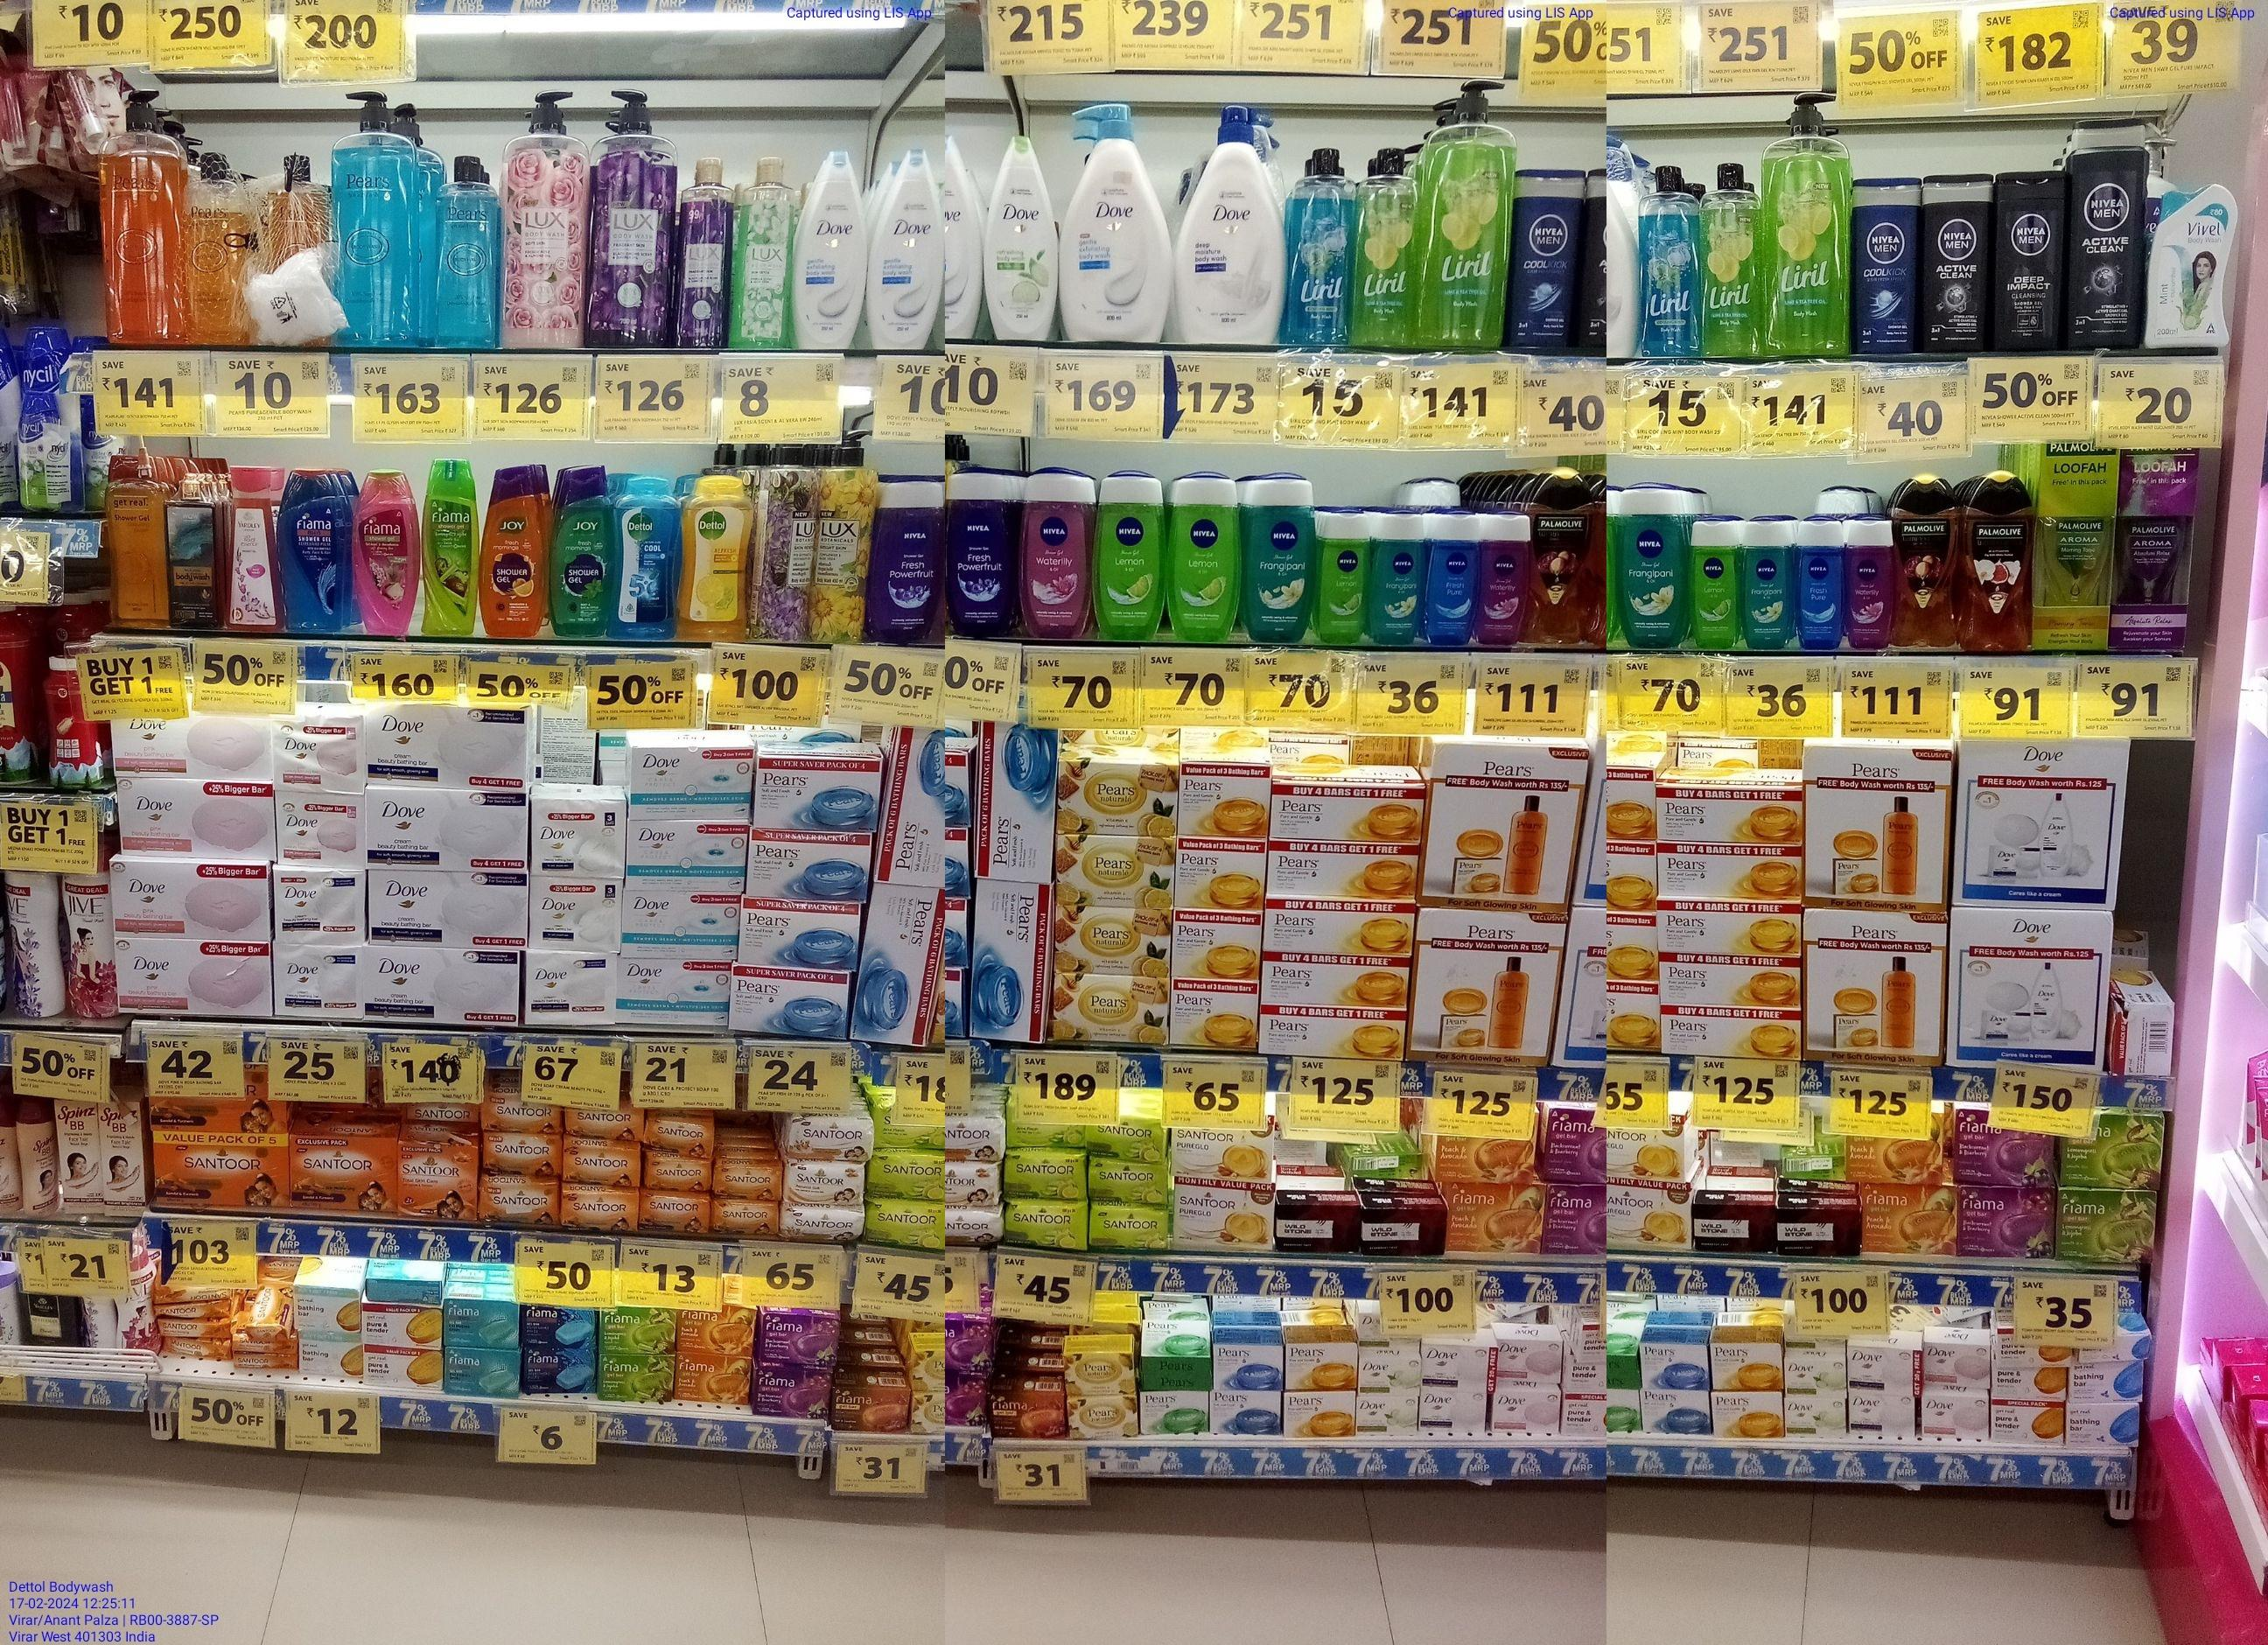Dettol_Bodywash_Cool: (611, 476, 678, 641)
Dettol_Bodywash_Refresh: (683, 477, 750, 643)
Dove_Gentle_Exfoliating_Body_Wash_250ML: (794, 150, 870, 352), (873, 148, 944, 350)
Dove_Refreshing_Body_Wash_250ML: (984, 134, 1060, 340)
Fiama_Shower_Gel_Patchouli_and_Macadamia_250ML: (352, 472, 421, 638)
Get_Real_Shower_Gel_Moisturising_Glycerin_300ML: (106, 454, 167, 631)
Joy_Shower_Gel_Mandarin_and_Lemongrass_250ML: (479, 465, 541, 639)
Joy_Shower_Gel_Mint_and_Eucalyptus_250ML: (553, 465, 611, 636)
Liril_Cooling_Mint_Body_Wash_250ML: (1289, 148, 1354, 349), (1636, 166, 1697, 358)
Liril_Lime_and_Tea_Tree_Oil_Body_Wash_250ML: (1356, 150, 1419, 347), (1703, 164, 1764, 358)
Lux_Black_Orchid_Scent_and_Juniper_Oil_Body_Wash_245ML: (680, 157, 733, 345)
Lux_Body_Wash_Skin_Detox_Freesia_Scent_and_Alove_Vera_245ML: (736, 159, 791, 350)
Nivea_Shower_Gel_Frangipani_and_Oil_250ML: (1245, 476, 1308, 645), (1620, 488, 1685, 648)
Nivea_Shower_Gel_Fresh_Powerfruit_250ML: (872, 481, 944, 645), (947, 467, 1012, 636)
Nivea_Shower_Gel_Lemon_and_Oil_250ML: (1095, 472, 1167, 641), (1169, 476, 1240, 641)
Nivea_Shower_Gel_Waterlily_and_Oil_250ML: (1023, 470, 1090, 636)
Palmolive_Luminous_Oils_Invigorating_Macadamia_Oil_With_Peony_250ML: (1527, 468, 1592, 648), (1891, 477, 1955, 646)
Palmolive_Luminous_Oils_With_White_Orchid_Shower_Gel_250ML: (1965, 474, 2032, 652)
Pears_Pure_Glycerin_and_Mint_Extracts_Body_Wash_250ML: (435, 155, 500, 347)
